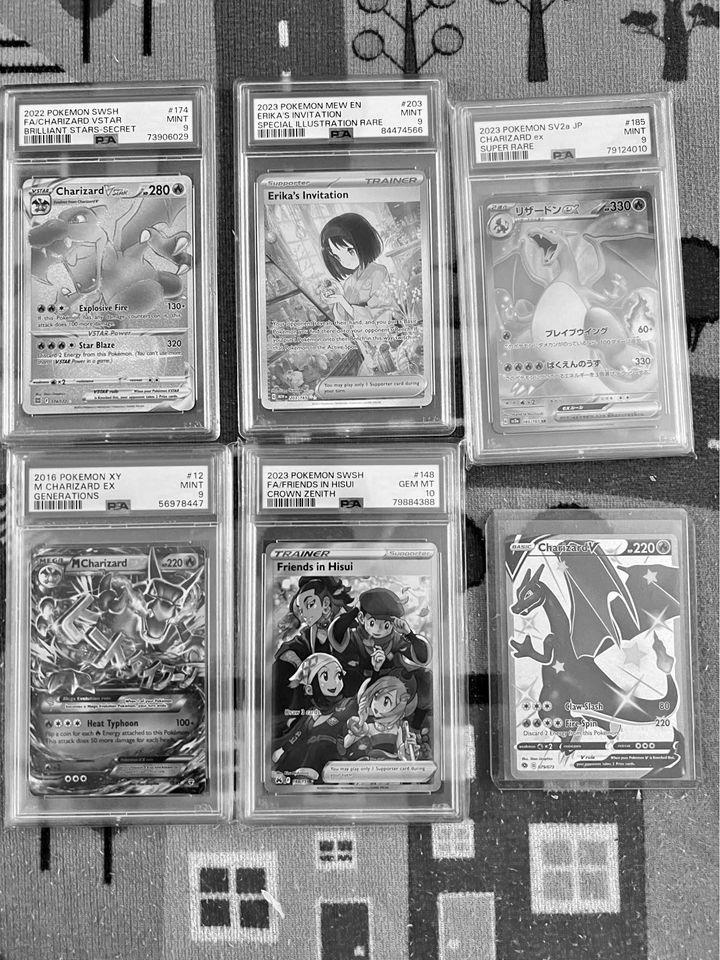card: (500, 531, 691, 782), (481, 189, 675, 435), (29, 544, 211, 799), (262, 540, 444, 795), (22, 174, 201, 418), (260, 171, 437, 410)
